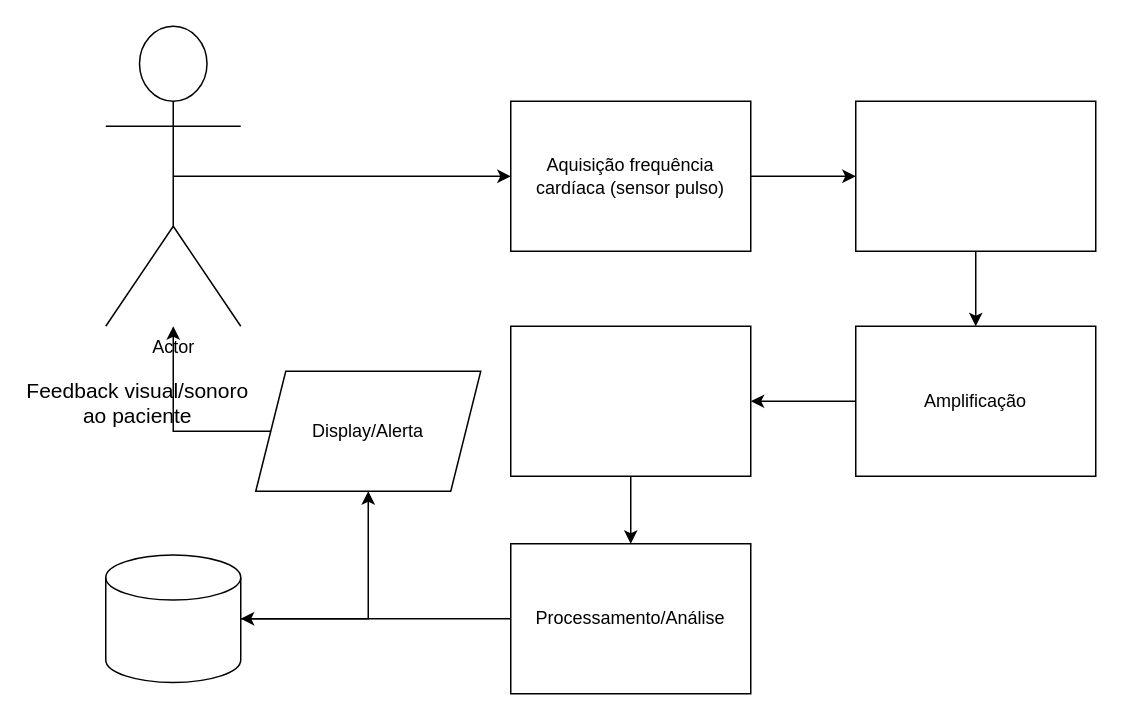
The diagram is 1122 pixels wide and 720 high, and some of its shapes have lost their labels. Here are the shapes that lost their labels. From the top down, the box of each, then its label:
(854, 100, 1096, 251): Filtragem
(509, 325, 751, 476): Conversão AD (amostragem, quantização, codificação)
(104, 554, 241, 682): Banco de Dados
